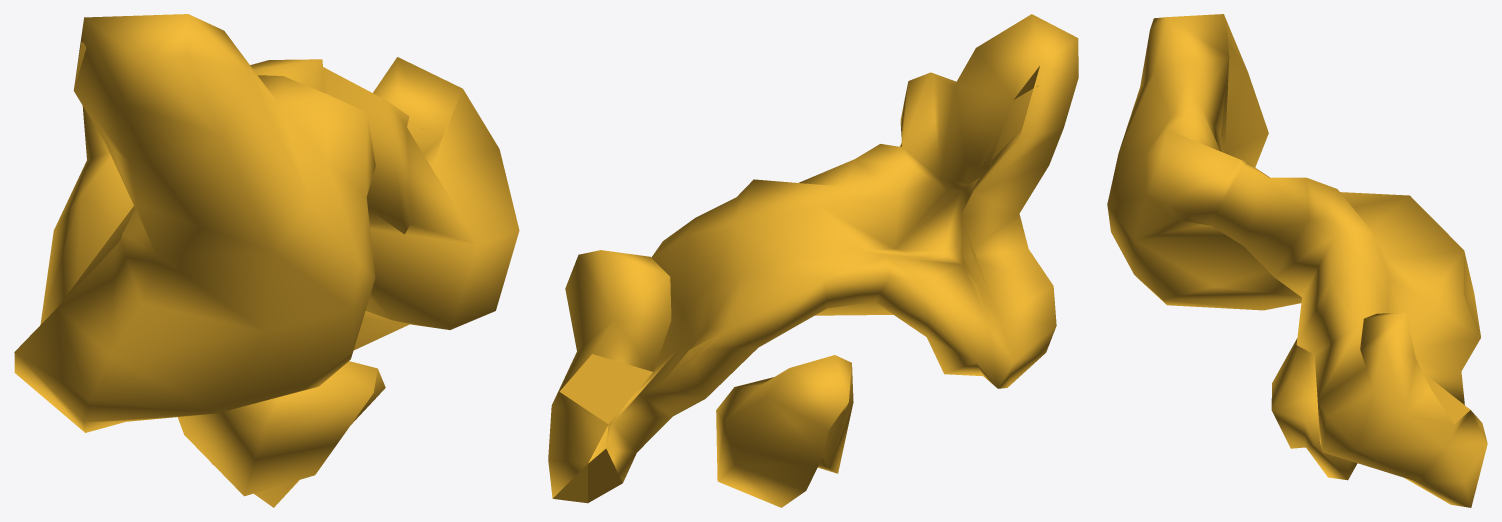
The model's file is nervoso-lunate-sulcus-r.glb.
3 renders of one model, left to right at view 1: azimuth 30°, elevation 25°; view 2: azimuth 150°, elevation 25°; view 3: azimuth 270°, elevation 25°, orthographic. The views are drawn at different scales.
Visible parts, largest first — view 1: Lunate sulcus.r; view 2: Lunate sulcus.r; view 3: Lunate sulcus.r.
Part boxes in pixels (bbox=[...]): Lunate sulcus.r: bbox=[14, 14, 519, 507]; Lunate sulcus.r: bbox=[548, 14, 1078, 507]; Lunate sulcus.r: bbox=[1107, 14, 1487, 507].
Bounding box in the file's own units: 0.0217 × 0.0241 × 0.021.
